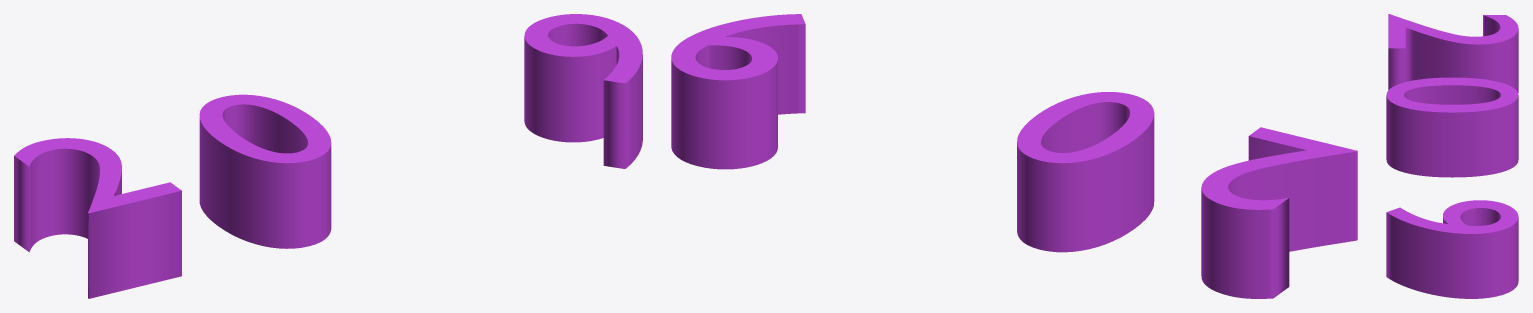
Rendered from numbers.fbx.
3 views of the same model, side by side, from view 1: azimuth 30°, elevation 25°; view 2: azimuth 150°, elevation 25°; view 3: azimuth 270°, elevation 25° (orthographic). The views are drawn at different scales.
Visible parts, largest first — view 1: 2, 0, 9; view 2: 2, 0, 9; view 3: 0, 9, 2.
Boxes of the visible parts, x1,y1,x2,y2 form: 2: [14, 138, 181, 298]; 0: [199, 94, 331, 248]; 9: [524, 14, 642, 168]; 2: [1201, 127, 1357, 298]; 0: [1017, 92, 1154, 252]; 9: [671, 14, 805, 169]; 0: [1386, 77, 1518, 177]; 9: [1386, 200, 1518, 298]; 2: [1388, 14, 1518, 92].
Bounding box in the file's own units: 276 × 38 × 70.
